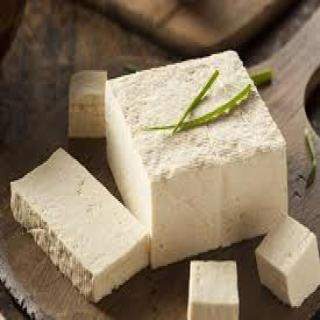Tahu: (7, 51, 320, 309)
